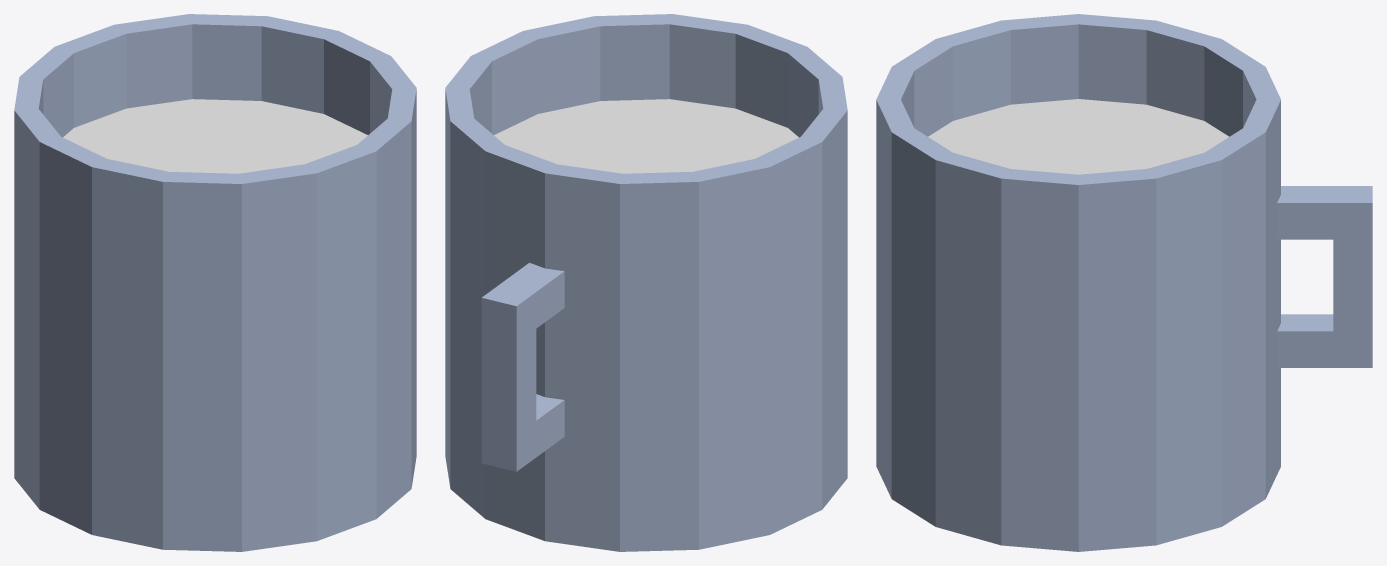
The model's file is Coffe cup.fbx.
The picture shows the model from 3 angles, left to right: view 1: azimuth 30°, elevation 25°; view 2: azimuth 150°, elevation 25°; view 3: azimuth 270°, elevation 25°; orthographic projection.
Parts seen in each view (by area): view 1: Cup, Coffe; view 2: Cup, Coffe; view 3: Cup, Coffe.
Boxes of the visible parts, left/top/right/bottom form: Cup: left=14, top=14, right=416, bottom=551; Coffe: left=63, top=99, right=367, bottom=173; Cup: left=445, top=14, right=847, bottom=551; Coffe: left=494, top=99, right=798, bottom=173; Cup: left=876, top=14, right=1372, bottom=551; Coffe: left=928, top=99, right=1229, bottom=174.
Bounding box in the file's own units: 200 × 200 × 245.
